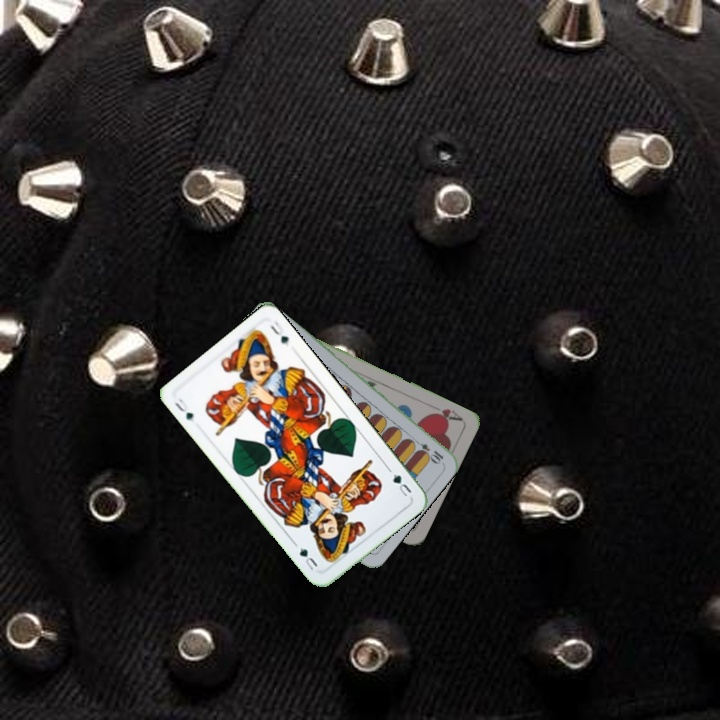E10: (409, 435, 446, 466)
GU: (389, 469, 414, 499), (171, 394, 196, 423)
HA: (425, 404, 465, 425)
